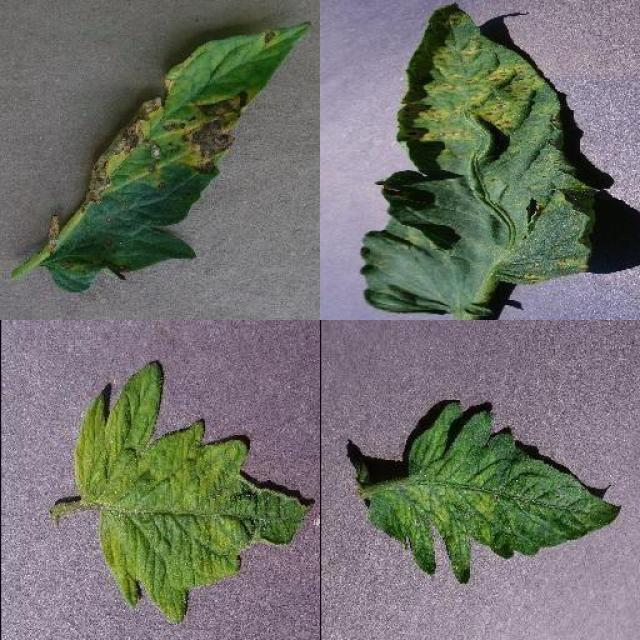Early Blight: (49, 21, 310, 299)
Septoria: (358, 1, 598, 320)
